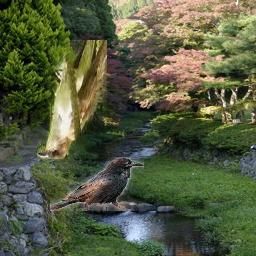Crow: (50, 157, 144, 211)
Cuckoo: (37, 41, 107, 160)
